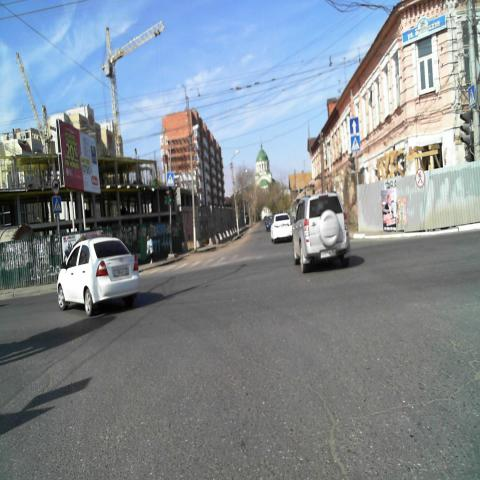3_10: (416, 168, 426, 188)
3_4_1: (51, 177, 60, 193)
5_19_1: (466, 83, 474, 109), (52, 196, 62, 214), (350, 135, 358, 152), (166, 172, 174, 188)
5_5: (350, 119, 359, 135)
